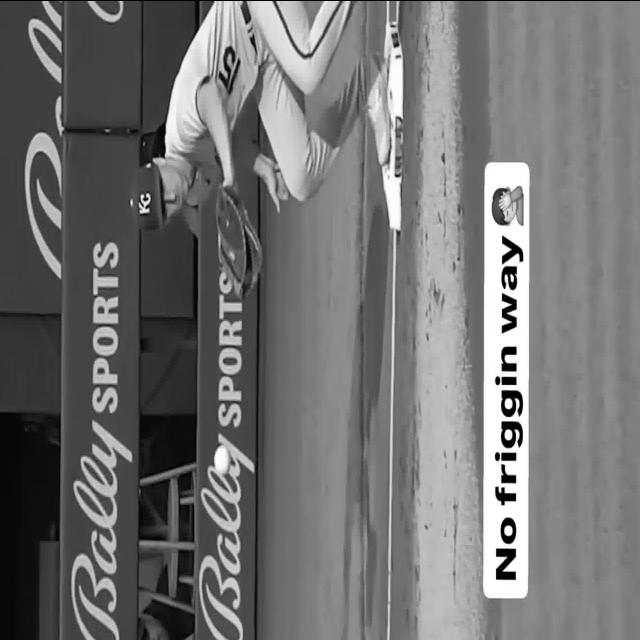base: (382, 2, 404, 231)
baseball: (214, 444, 231, 476)
baseball_glove: (216, 184, 262, 298)
shoe: (365, 50, 391, 164)
